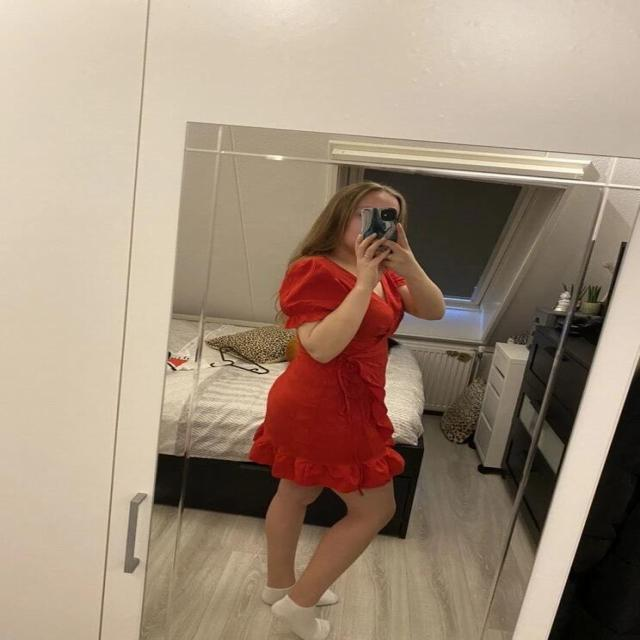clothes: (236, 253, 439, 511)
